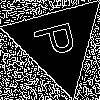P: (32, 17, 85, 61)
